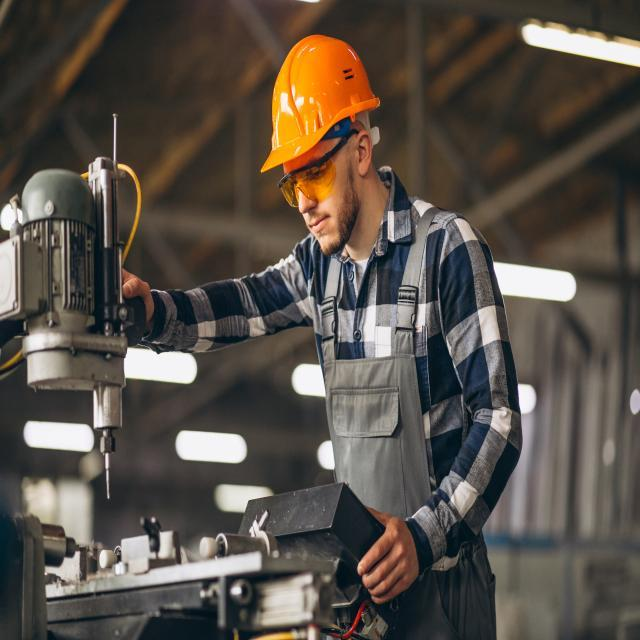helmet: (273, 26, 387, 213)
